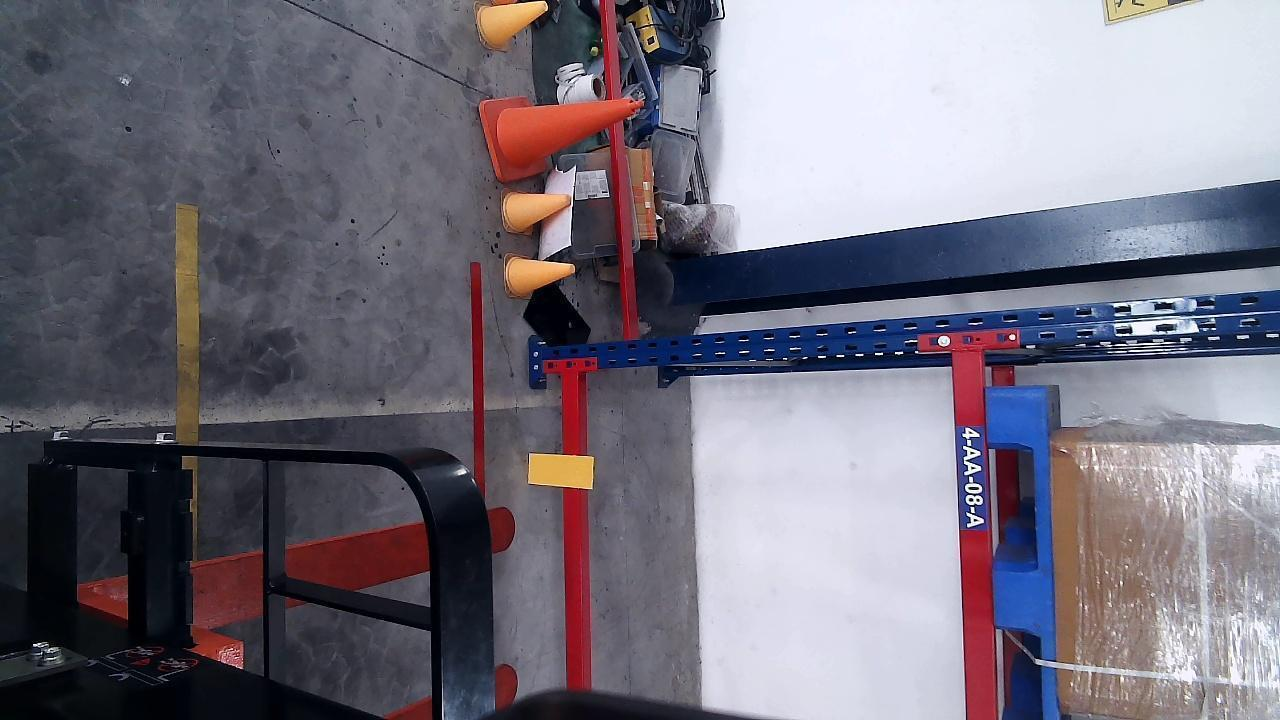red_line: (471, 262, 487, 502)
yellow_line: (176, 204, 202, 442)
